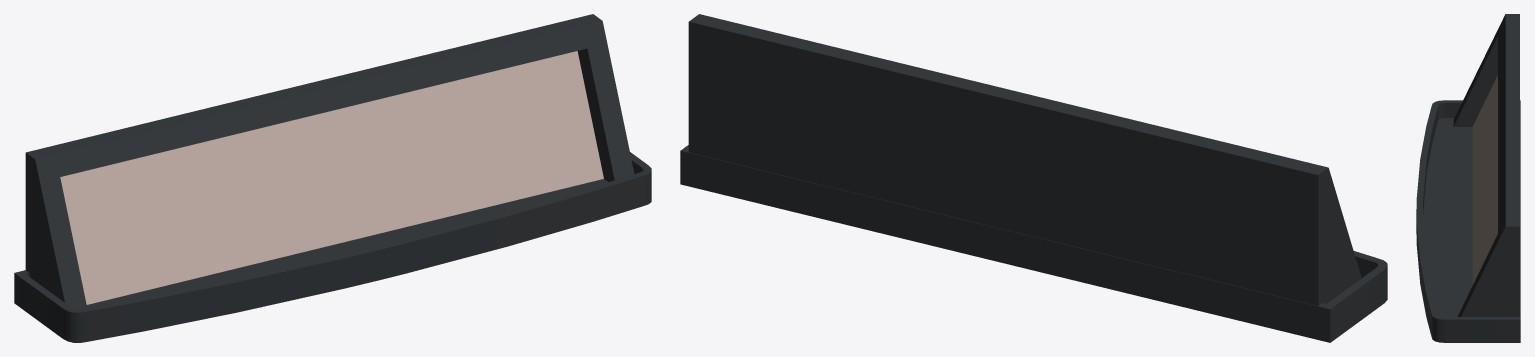
The model's file is SM_display_box.fbx.
The picture shows the model from 3 angles, left to right: view 1: azimuth 30°, elevation 25°; view 2: azimuth 150°, elevation 25°; view 3: azimuth 270°, elevation 25°; orthographic projection. The views are drawn at different scales.
Visible parts, largest first — view 1: display_box; view 2: display_box; view 3: display_box.
Part boxes in pixels (x1=…): display_box: x1=14, y1=14, x2=651, y2=342; display_box: x1=680, y1=14, x2=1387, y2=342; display_box: x1=1416, y1=14, x2=1520, y2=342.
Bounding box in the file's own units: 271 × 65.41 × 54.21.
